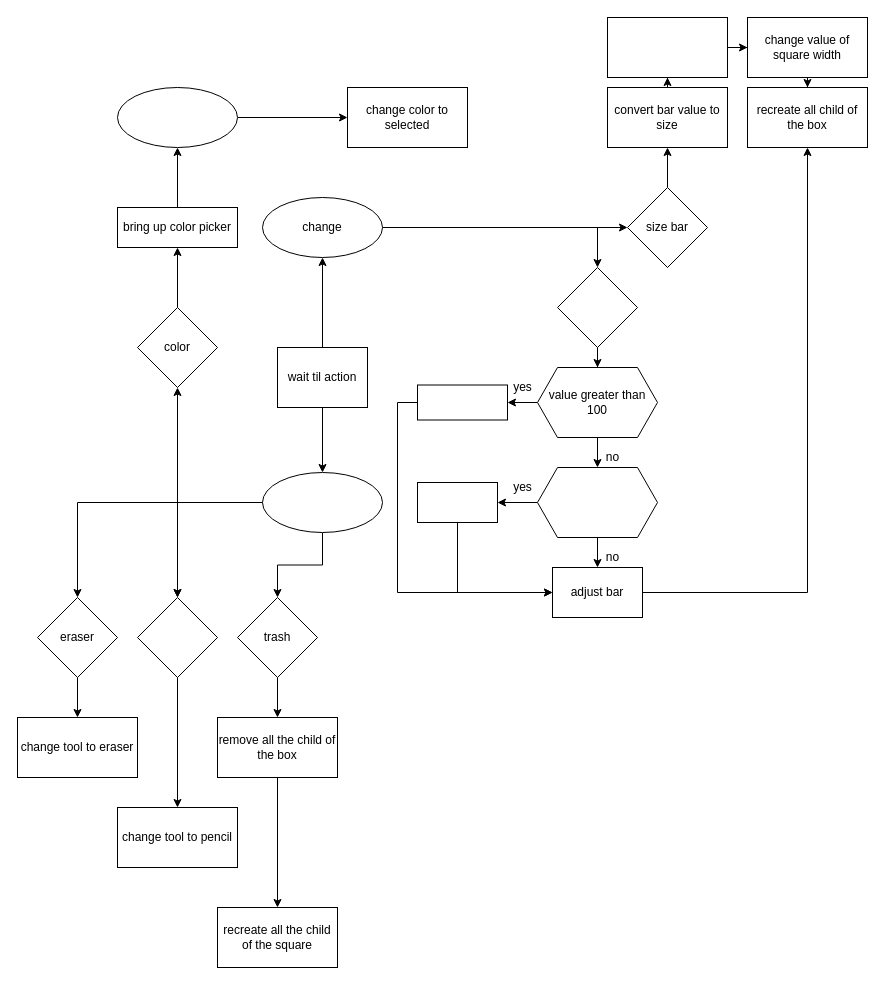
This 885x985 diagram has some shape labels left out. Each missing label, with the centre of its shape:
"change in color" belongs at (x=177, y=117).
"click" belongs at (x=322, y=502).
"pencil" belongs at (x=177, y=637).
"remove all child of the box" belongs at (x=667, y=47).
"set to 100" belongs at (x=457, y=502).
"set to 16" belongs at (x=462, y=402).
"size textbox" belongs at (x=597, y=307).
"value less than 16" belongs at (x=597, y=502).
